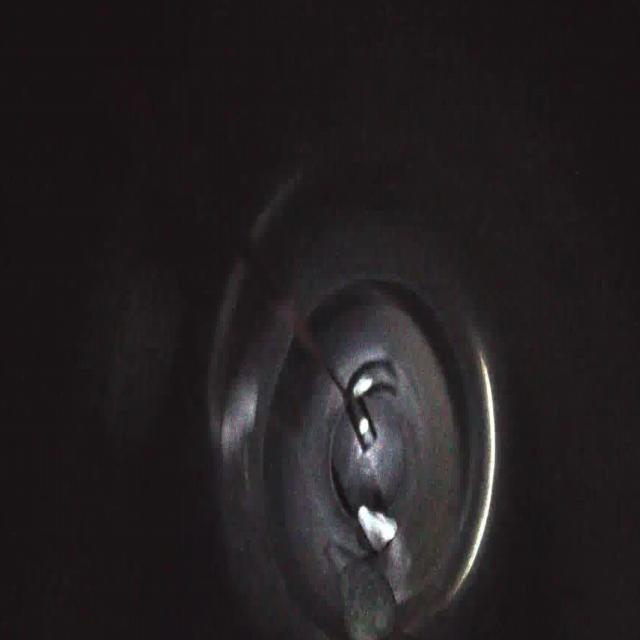impurity: (334, 555, 404, 640), (352, 496, 400, 556)
